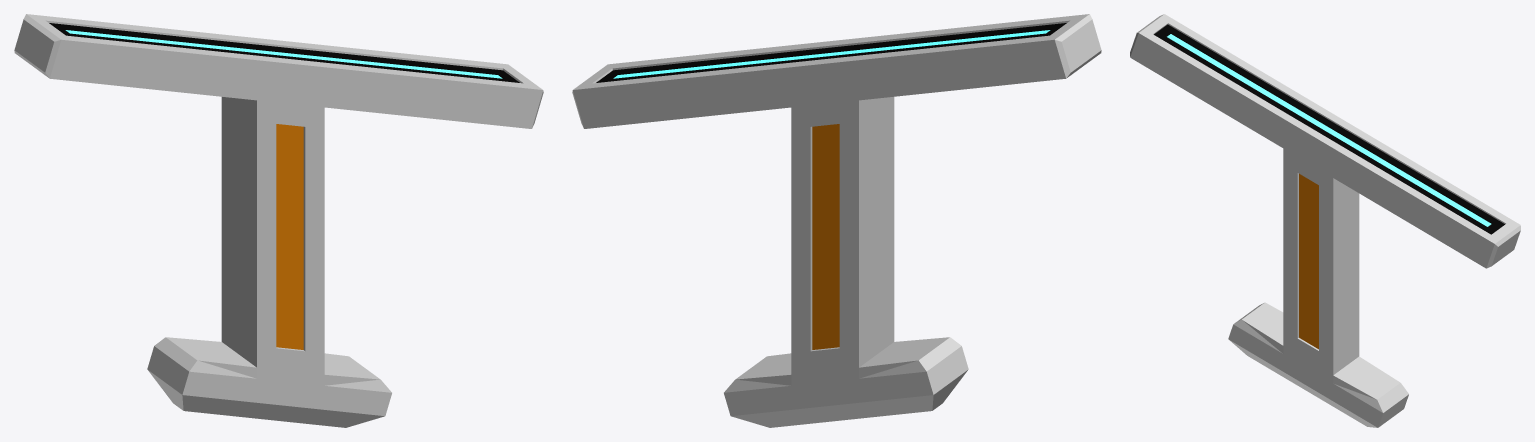
The model's file is SM_Rambard.glb.
3 views of the same model, side by side, from view 1: azimuth 30°, elevation 25°; view 2: azimuth 150°, elevation 25°; view 3: azimuth 330°, elevation 25° (orthographic). The views are drawn at different scales.
Parts seen in each view (by area): view 1: SM_Rambard; view 2: SM_Rambard; view 3: SM_Rambard.
Part boxes in pixels (box(x1,y1,x2,y2)): SM_Rambard: box(14, 14, 543, 427); SM_Rambard: box(572, 14, 1101, 427); SM_Rambard: box(1130, 14, 1520, 427).
Bounding box in the file's own units: 4 × 3.6 × 0.4888.
